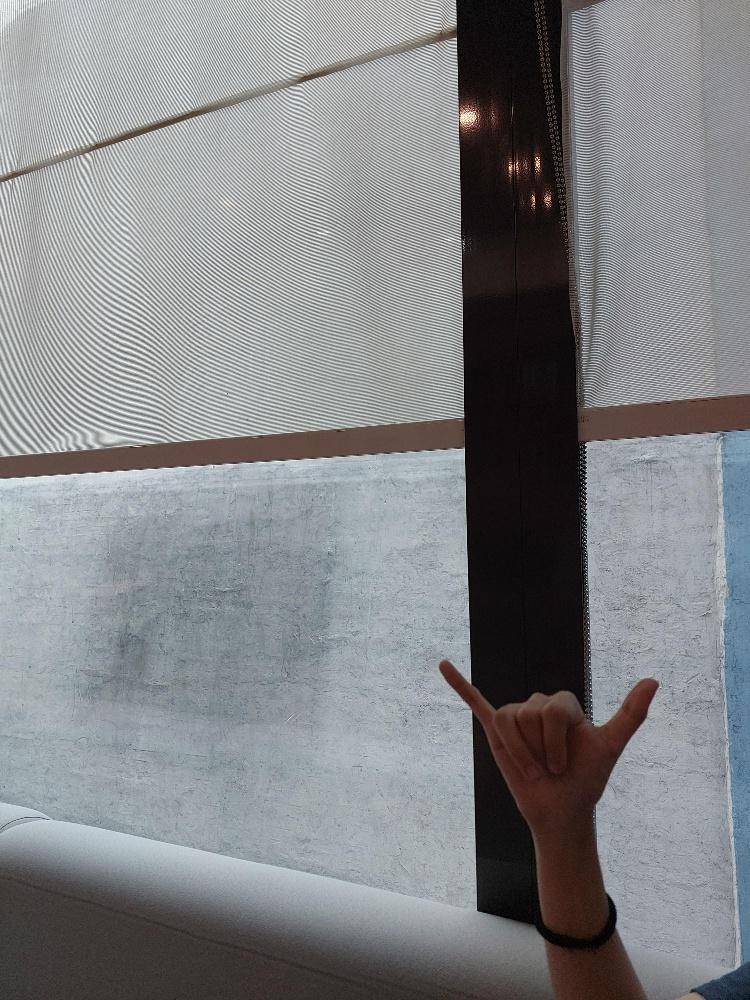y: (437, 656, 659, 801)
